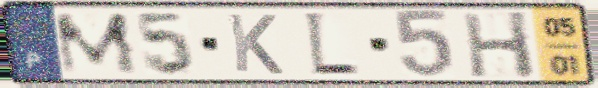5: (389, 8, 458, 82), (132, 10, 196, 77)
H: (458, 9, 539, 80)
K: (224, 11, 287, 77)
L: (300, 9, 363, 80)
M: (49, 11, 143, 77)
